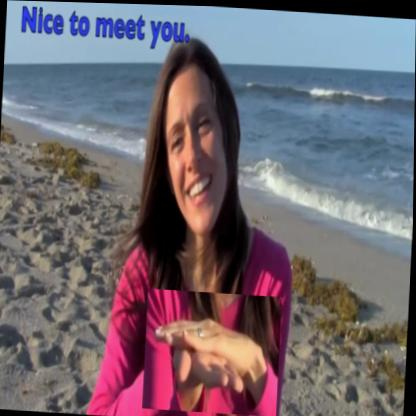NiceToMeetYou: (143, 287, 283, 416)
